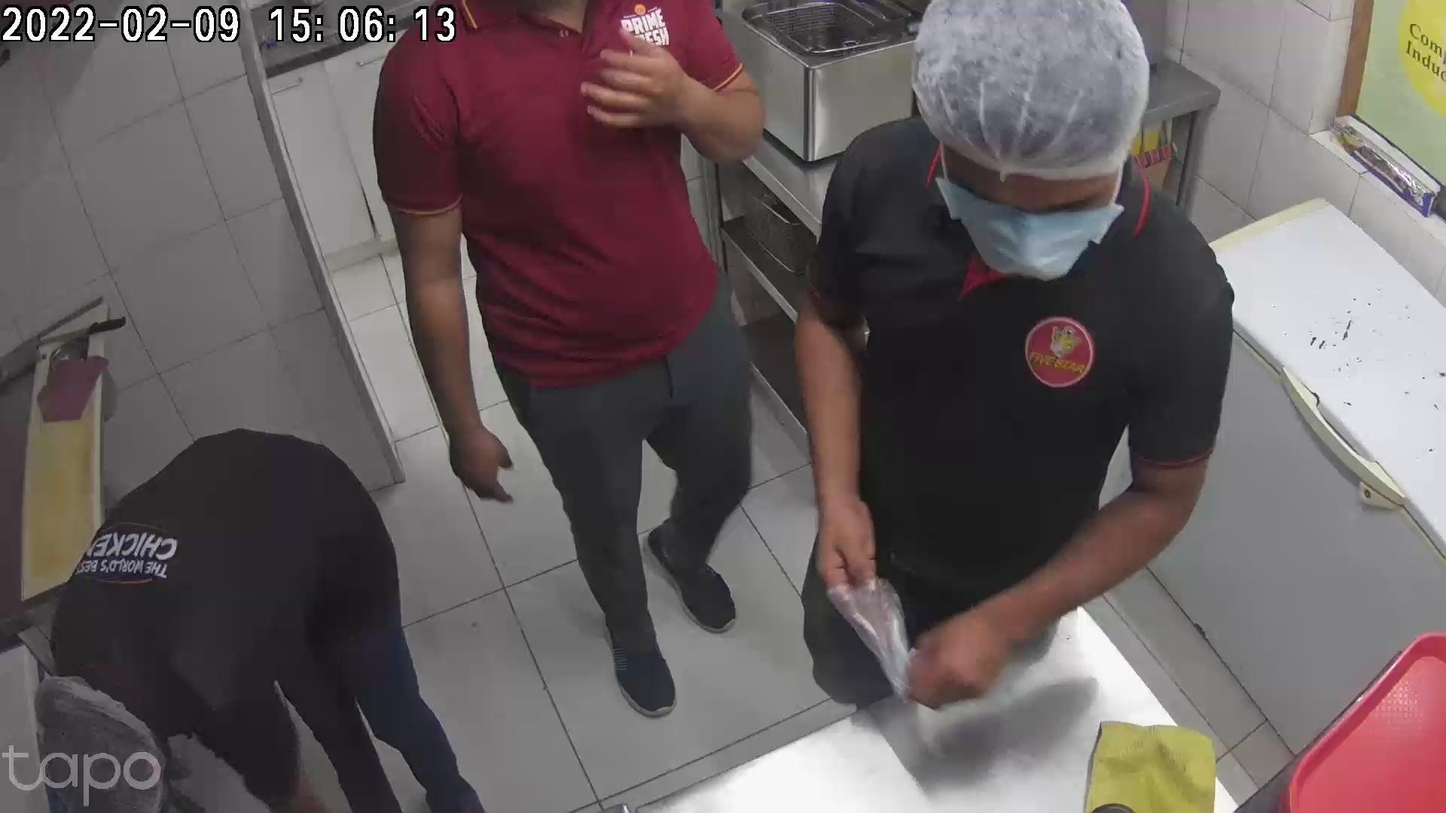no_gloves: (429, 382, 504, 507)
